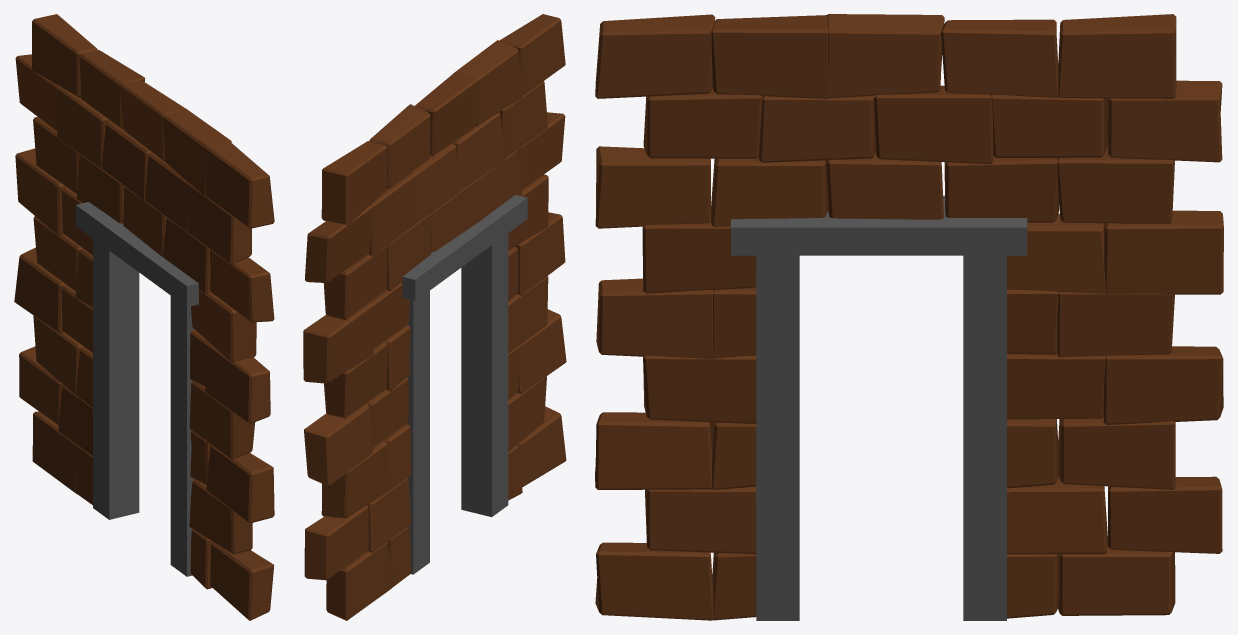
Rendered from BrickWall-RedBrick-Door.fbx.
3 renders of one model, left to right at view 1: azimuth 30°, elevation 25°; view 2: azimuth 150°, elevation 25°; view 3: azimuth 270°, elevation 25°, orthographic. The views are drawn at different scales.
Parts seen in each view (by area): view 1: Stone wall door hole.001, RedBrick f3, RedBrick f1, RedBrick f2; view 2: Stone wall door hole.001, RedBrick f1, RedBrick f3, RedBrick f2; view 3: Stone wall door hole.001, RedBrick f1, RedBrick f3, RedBrick f2.
Part boxes in pixels (x1=…): Stone wall door hole.001: x1=14, y1=14, x2=274, y2=620; RedBrick f3: x1=93, y1=239, x2=139, y2=519; RedBrick f1: x1=170, y1=296, x2=194, y2=576; RedBrick f2: x1=75, y1=202, x2=198, y2=307; Stone wall door hole.001: x1=303, y1=14, x2=566, y2=620; RedBrick f1: x1=461, y1=233, x2=508, y2=516; RedBrick f3: x1=406, y1=291, x2=429, y2=574; RedBrick f2: x1=401, y1=195, x2=527, y2=300; Stone wall door hole.001: x1=595, y1=14, x2=1223, y2=620; RedBrick f1: x1=756, y1=255, x2=799, y2=620; RedBrick f3: x1=963, y1=255, x2=1006, y2=620; RedBrick f2: x1=731, y1=195, x2=1027, y2=255.
Size of the model in its own units: 105 by 907 by 874.
